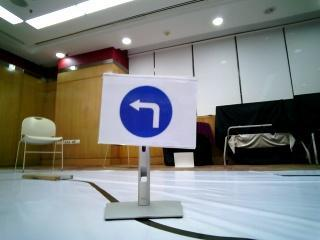left: (103, 83, 190, 139)
